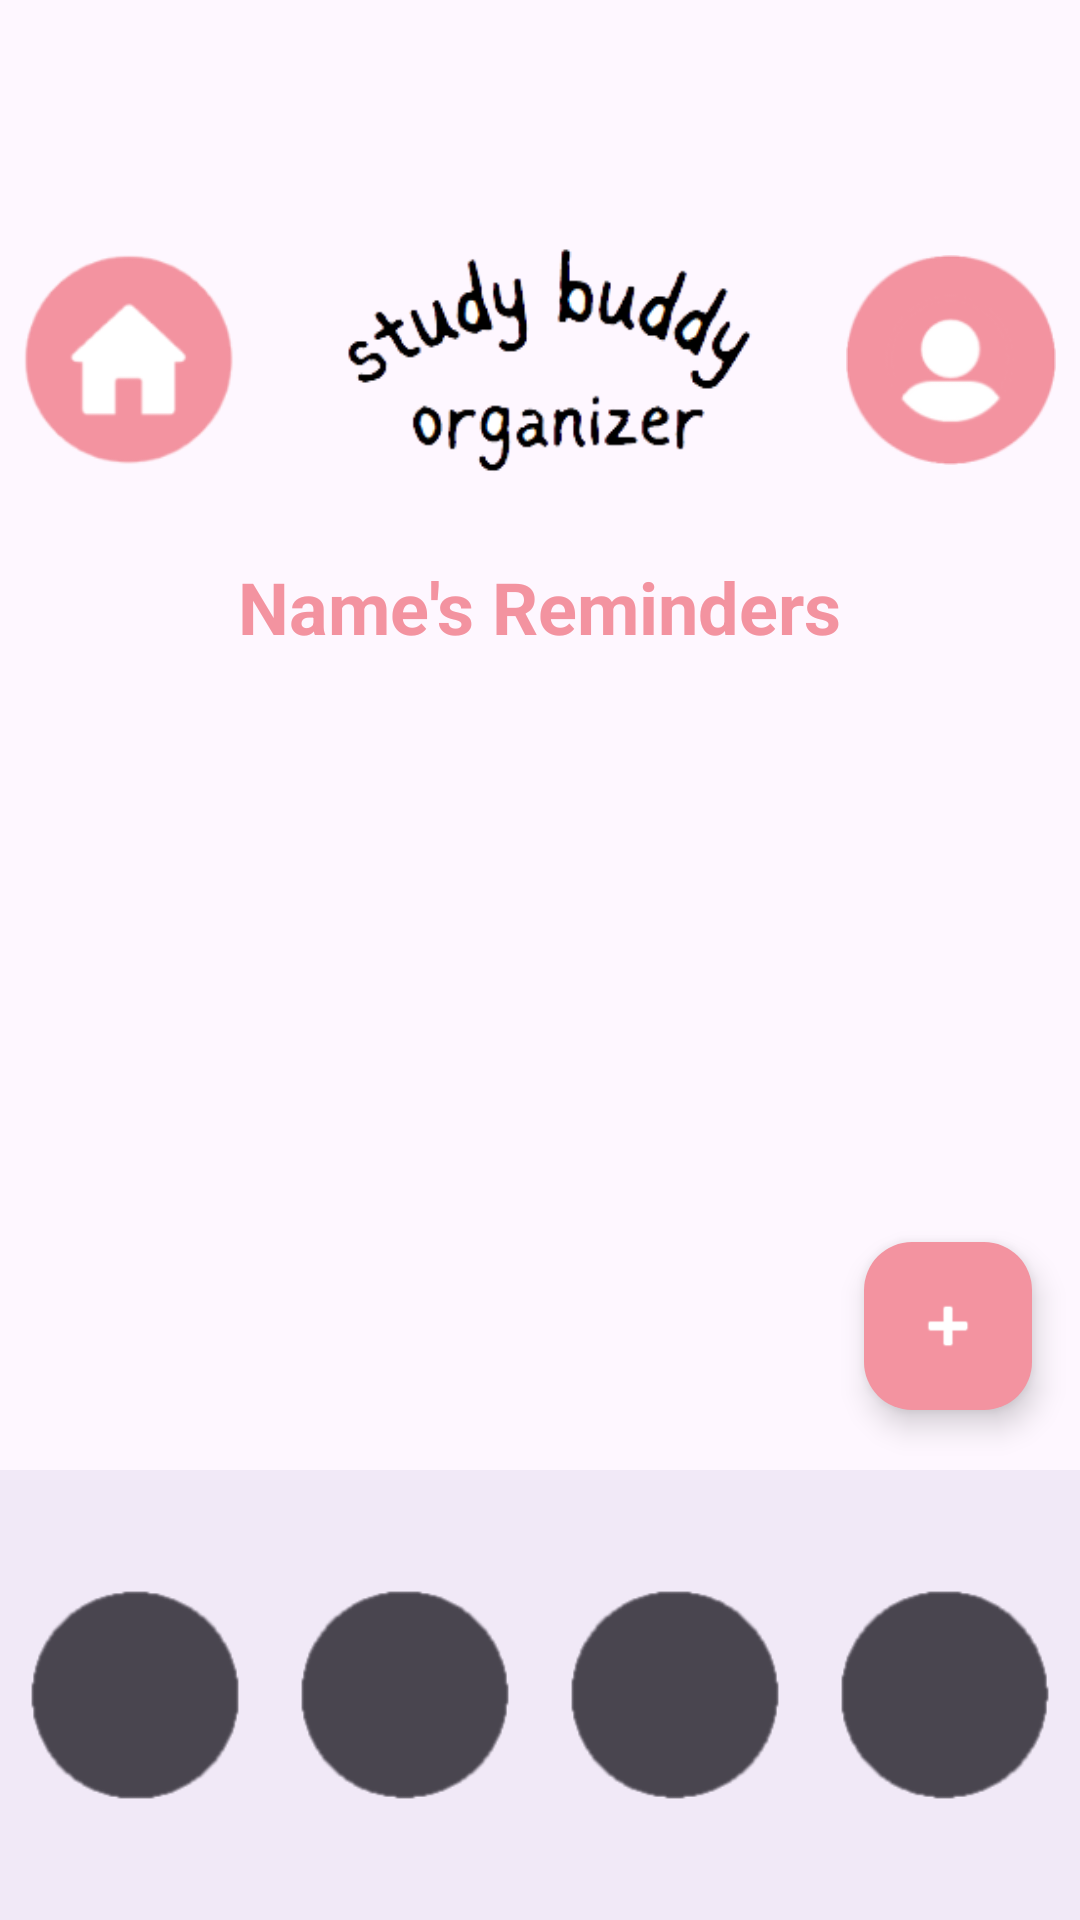

Named icons in this screenshot (1080px x 1920px) and their bounding boxes, (x1, y1, x2, y2):
Add Reminder: (864, 1242, 1032, 1410)
Home: (25, 256, 232, 463)
Profile: (846, 255, 1056, 465)
